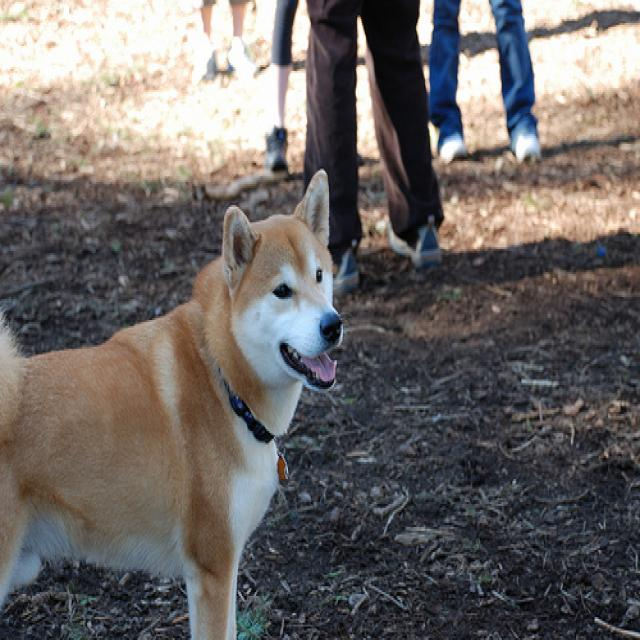dog-shiba_inu: (1, 157, 347, 636)
